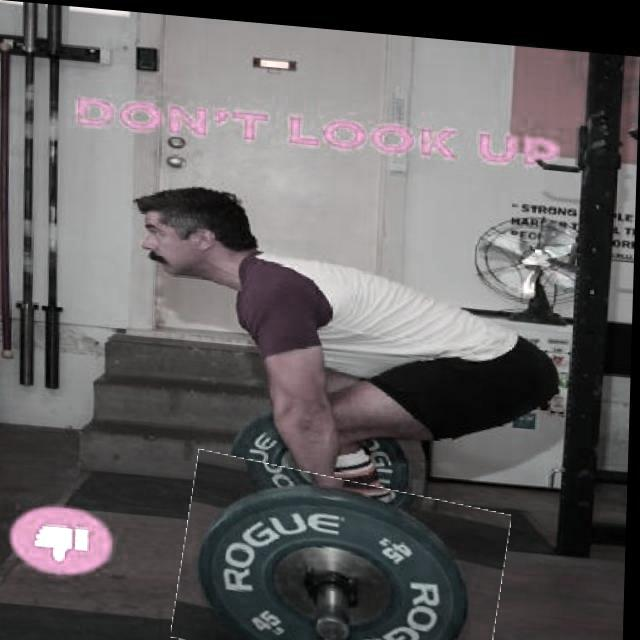barbell: (180, 454, 510, 640)
